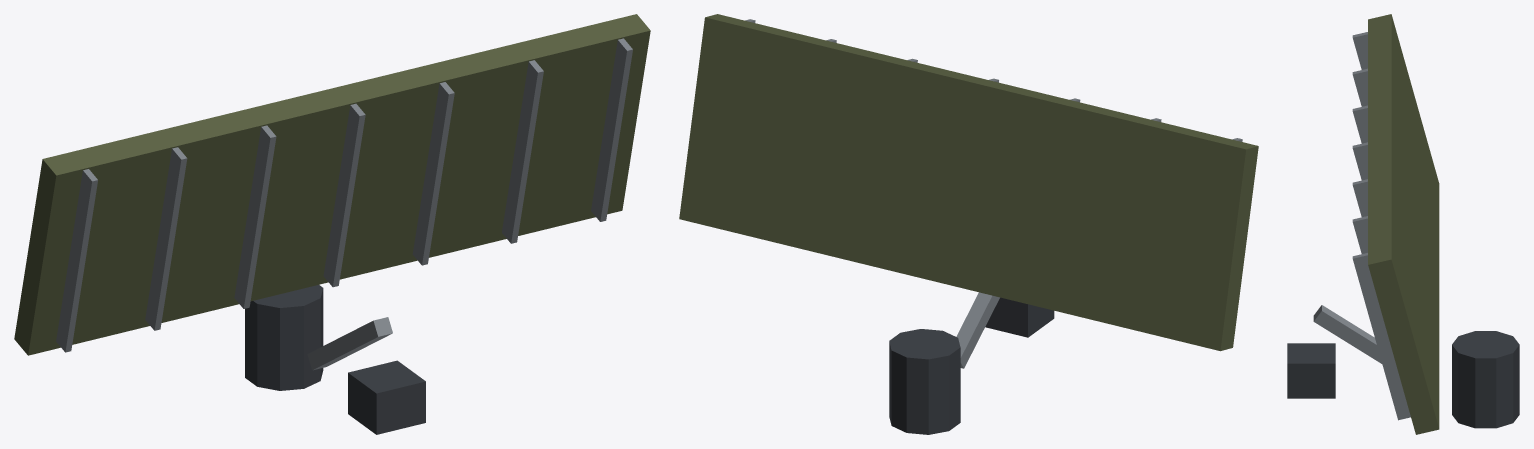
The model's file is radar_dish.glb.
The picture shows the model from 3 angles, left to right: view 1: azimuth 30°, elevation 25°; view 2: azimuth 150°, elevation 25°; view 3: azimuth 270°, elevation 25°; orthographic projection. The views are drawn at different scales.
Parts seen in each view (by area): view 1: radar_dish; view 2: radar_dish; view 3: radar_dish.
Part boxes in pixels (bbox=[...]): radar_dish: bbox=[14, 14, 650, 434]; radar_dish: bbox=[679, 14, 1258, 434]; radar_dish: bbox=[1287, 14, 1519, 434].
Bounding box in the file's own units: 6 × 3.17 × 2.4.
